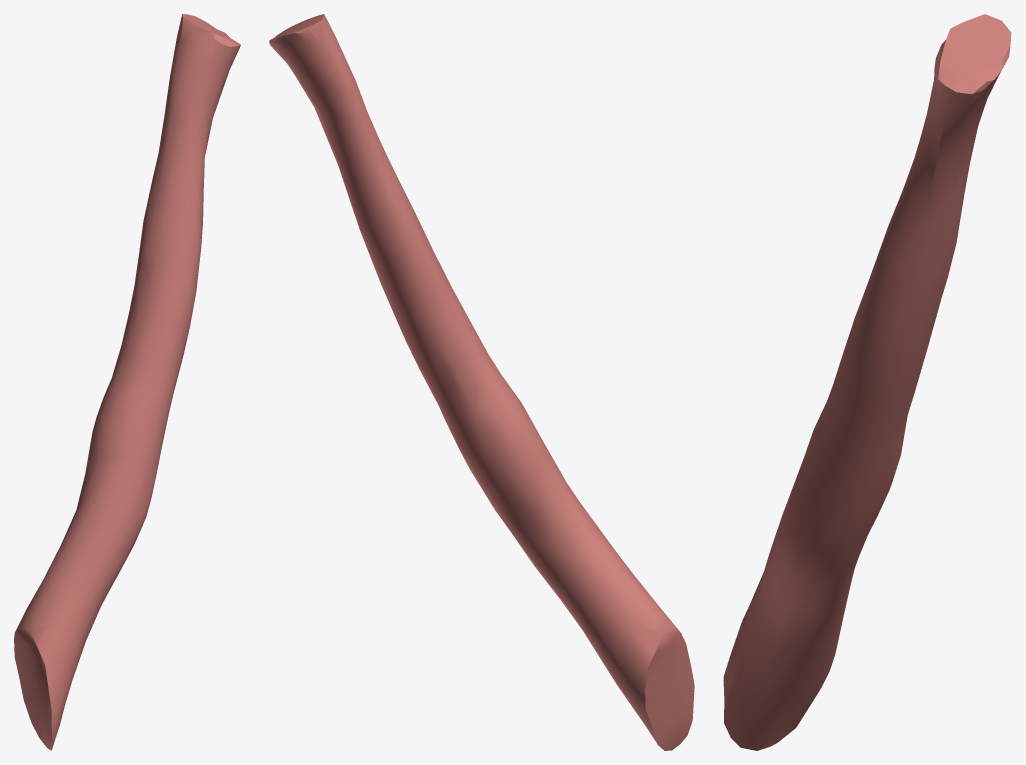
File: fma40825-f_mm1938.glb
3 views of the same model, side by side, from view 1: azimuth 30°, elevation 25°; view 2: azimuth 150°, elevation 25°; view 3: azimuth 270°, elevation 25° (orthographic). The views are drawn at different scales.
Visible parts, largest first — view 1: FMA40825-F_MM1938; view 2: FMA40825-F_MM1938; view 3: FMA40825-F_MM1938.
Boxes of the visible parts, x1,y1,x2,y2 form: FMA40825-F_MM1938: (14,14,240,750); FMA40825-F_MM1938: (269,14,694,750); FMA40825-F_MM1938: (723,14,1011,750).
Bounding box in the file's own units: 0.018 × 0.0391 × 0.0115.
